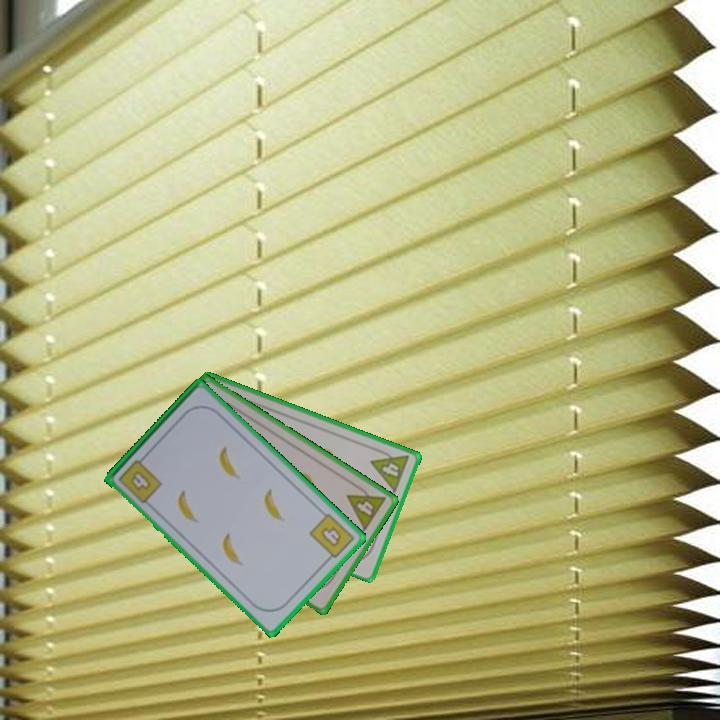4b: (306, 510, 357, 565), (130, 470, 154, 493)
4p: (343, 480, 389, 534), (367, 444, 413, 495)
